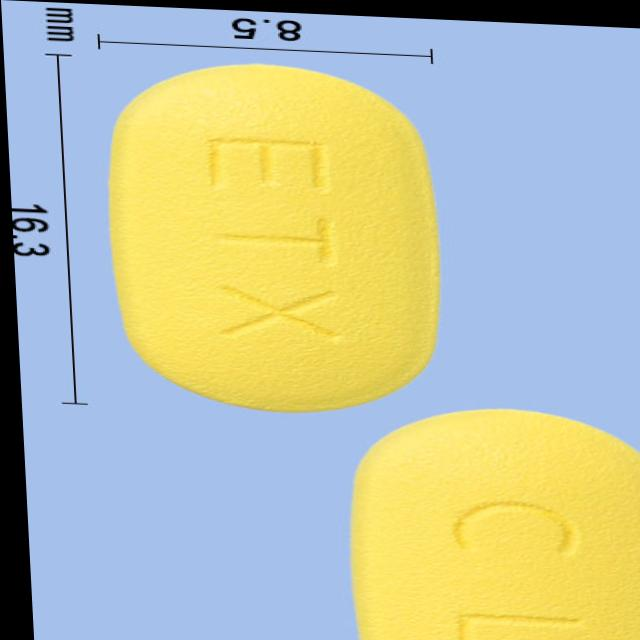Cefixime Cap: (102, 56, 442, 416), (341, 399, 640, 640)
